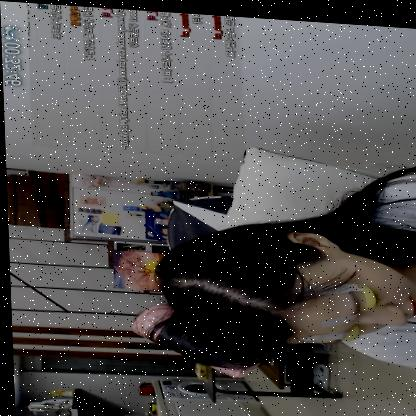streamer: (122, 139, 416, 385)
